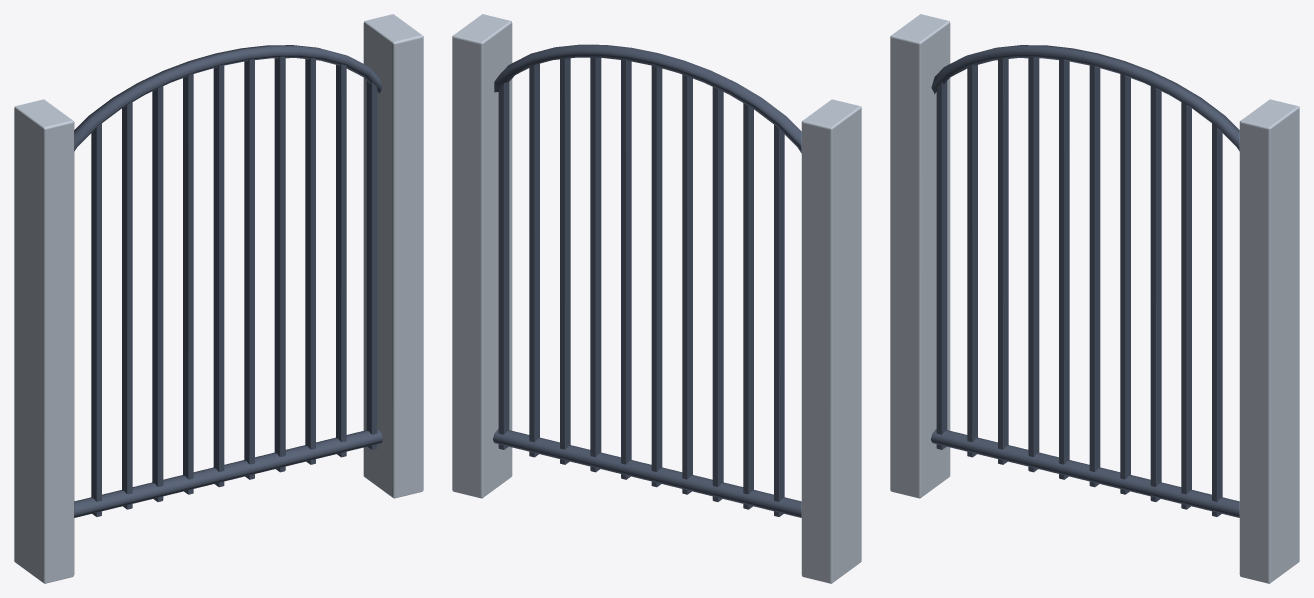
File: 拱形铁艺院门.glb
The picture shows the model from 3 angles, left to right: view 1: azimuth 30°, elevation 25°; view 2: azimuth 150°, elevation 25°; view 3: azimuth 330°, elevation 25°; orthographic projection.
Parts seen in each view (by area): view 1: garden-gate-arch; view 2: garden-gate-arch; view 3: garden-gate-arch.
Part boxes in pixels (x1,y1,x2,y2): garden-gate-arch: (14, 14, 423, 583); garden-gate-arch: (452, 14, 861, 583); garden-gate-arch: (890, 14, 1299, 583).
Bounding box in the file's own units: 1.6 × 1.9 × 0.23.
